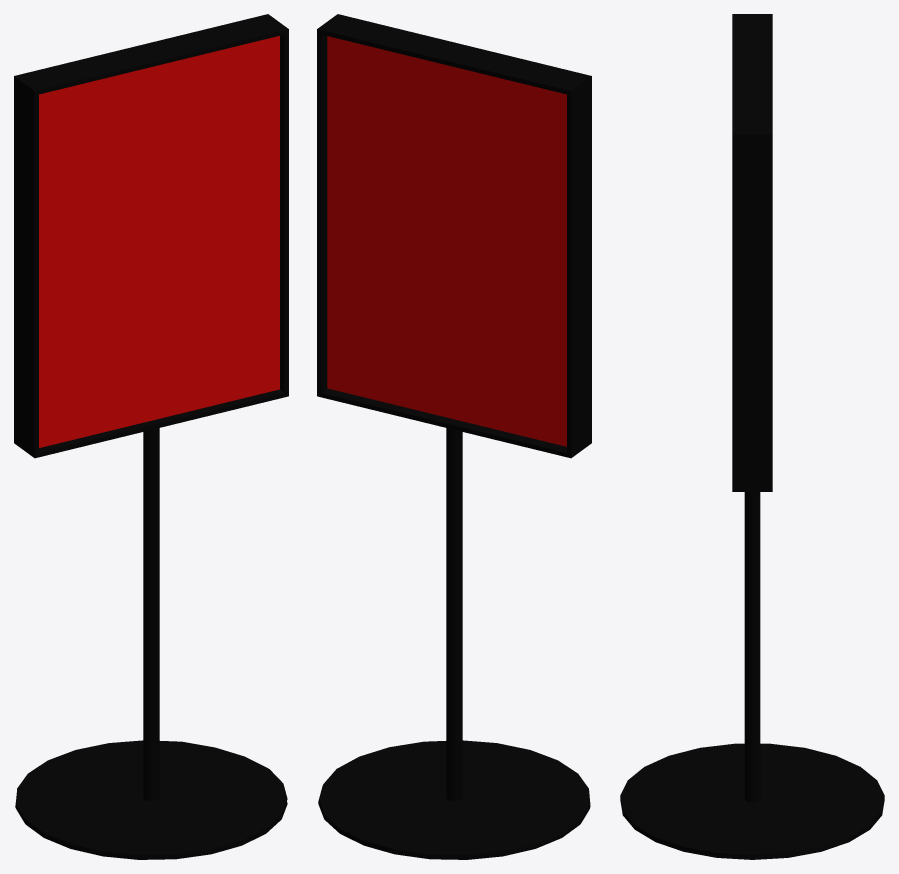
Rendered from SM_PosterSign.fbx.
3 views of the same model, side by side, from view 1: azimuth 30°, elevation 25°; view 2: azimuth 150°, elevation 25°; view 3: azimuth 270°, elevation 25° (orthographic). The views are drawn at different scales.
Visible parts, largest first — view 1: pCylinder4; view 2: pCylinder4; view 3: pCylinder4.
Boxes of the visible parts, x1=… form: pCylinder4: x1=14, y1=14, x2=288, y2=859; pCylinder4: x1=317, y1=14, x2=591, y2=859; pCylinder4: x1=620, y1=14, x2=884, y2=859.
Bounding box in the file's own units: 108 × 304 × 99.77.
